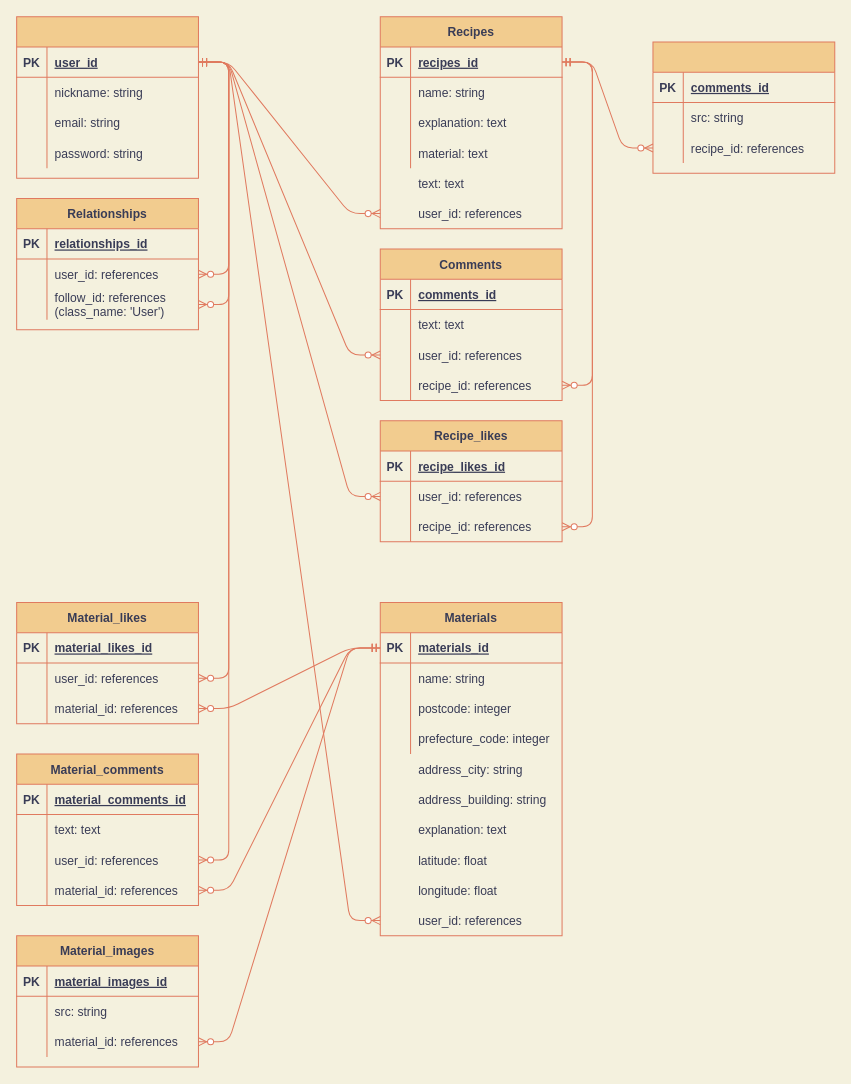
This 851x1084 diagram has some shape labels left out. Here are the shapes that lost their labels. From the top down, the box of each, then its label:
(16, 16, 198, 178): Users
(652, 41, 835, 173): Images
